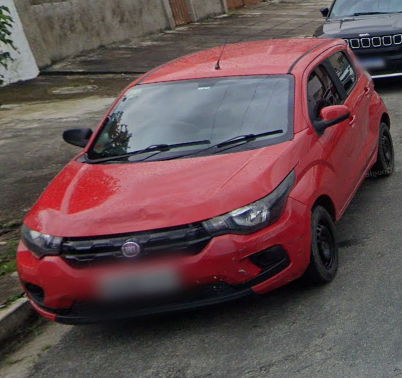car: (18, 36, 395, 321)
